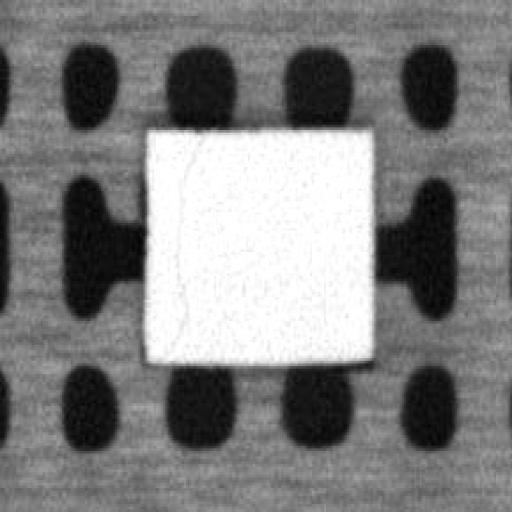DIE_CRACK: (167, 133, 207, 342)
